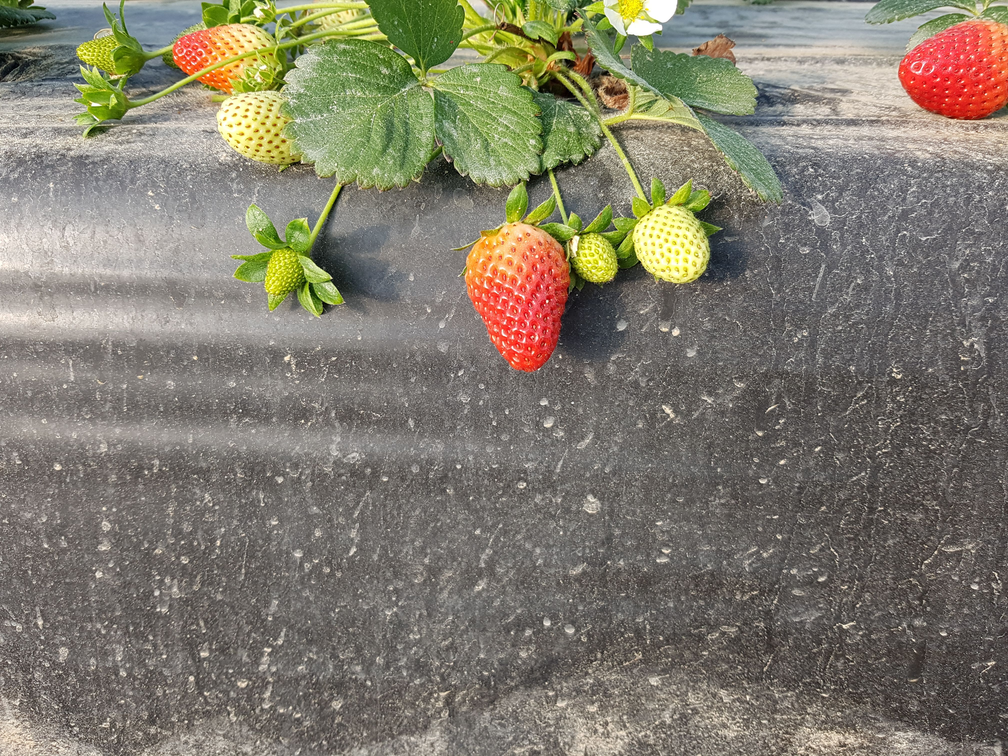peduncle: (127, 51, 254, 109), (597, 113, 649, 199), (309, 185, 341, 250), (278, 0, 366, 13), (548, 169, 566, 223), (264, 43, 295, 50)
strawberry: (465, 222, 568, 371), (465, 222, 568, 370), (899, 19, 1007, 118), (173, 23, 281, 93), (633, 205, 709, 282), (218, 92, 299, 164)
